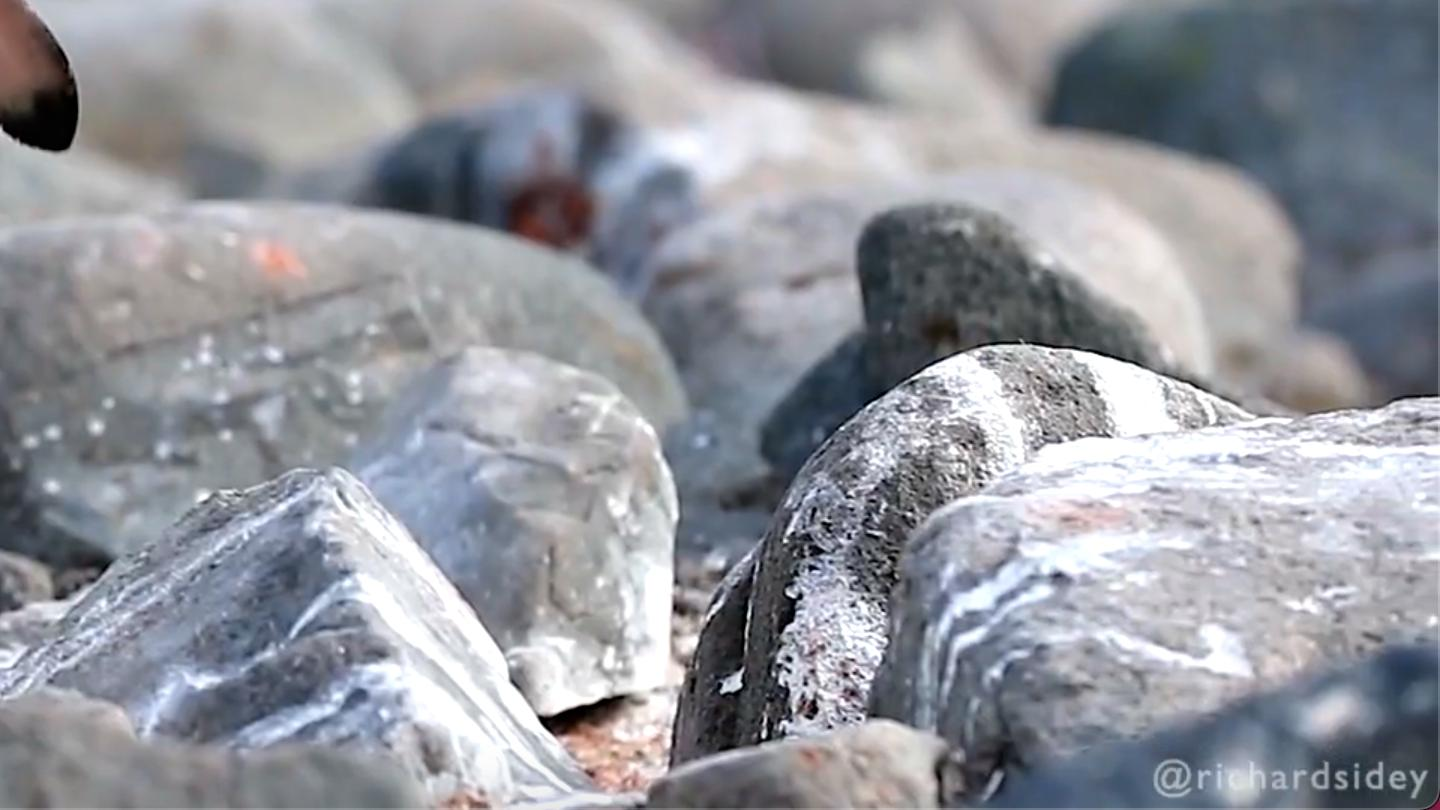Chinstrap Penguin: (0, 0, 124, 681)
